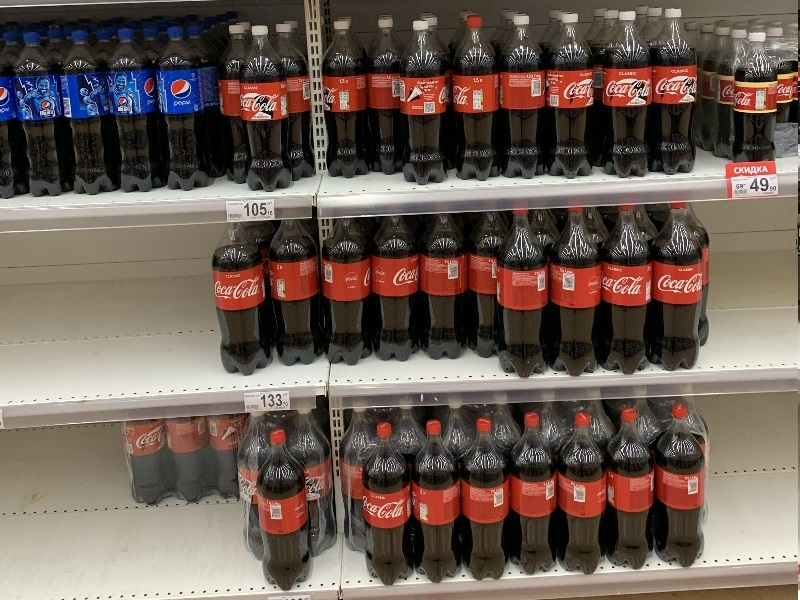lemonade: (246, 426, 318, 591), (546, 195, 608, 385), (205, 218, 277, 378), (406, 419, 472, 590), (357, 422, 423, 587), (501, 412, 565, 580), (495, 198, 553, 382), (60, 29, 121, 200), (311, 19, 375, 181), (598, 9, 657, 184), (541, 11, 600, 185), (449, 14, 506, 190), (394, 22, 453, 192), (645, 5, 703, 177), (107, 29, 167, 194), (313, 211, 376, 368), (14, 30, 73, 197), (650, 193, 702, 379), (601, 197, 654, 379), (492, 13, 550, 179), (604, 405, 660, 574), (462, 416, 516, 588), (365, 211, 424, 368), (655, 401, 707, 578), (157, 28, 212, 195), (556, 408, 610, 578), (265, 216, 324, 368), (239, 25, 290, 200), (419, 209, 473, 363), (725, 29, 784, 167)
